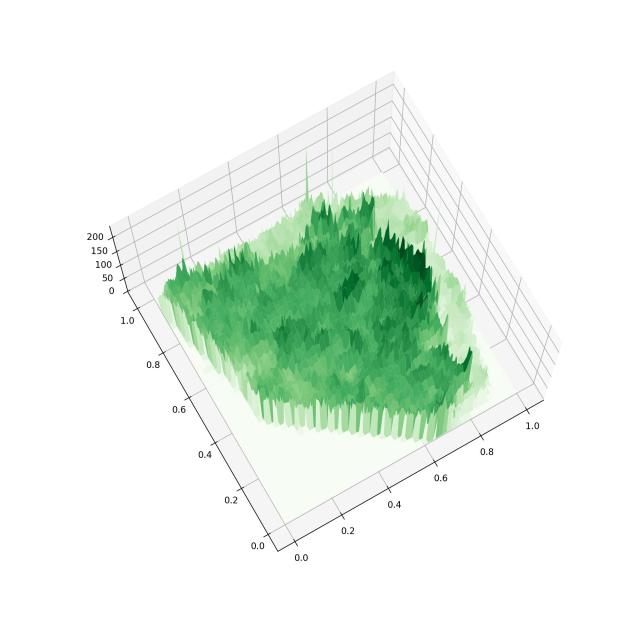fir: (61, 38, 578, 592)
